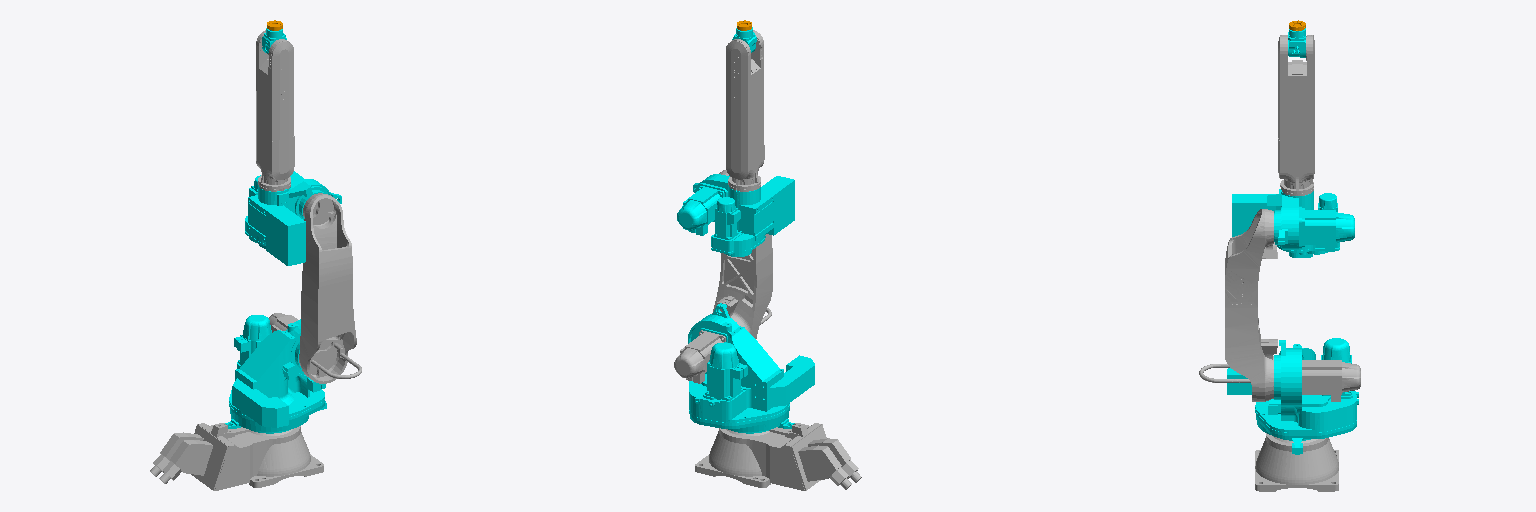
URDF robot description (comau_smart5_six):
<?xml version="1.0"?>
<robot name="comau_smart5_six" xmlns:xacro="http://ros.org/wiki/xacro">


  <!-- **************** WORLD LINK ********************** -->
  <link name="world" />

  <!-- **************** BASE COMAU ********************** -->
  <link name="base_comau">
  	<visual>
	  <origin xyz="0 0 0" rpy="0 0 0" />
  	  <geometry>
  		<mesh
			filename="package://smart5six_description/meshes/dae/base.dae"
			scale="0.001 0.001 0.001"
  			/>
  	  </geometry>
	  
  	  <material name="dark_grey">
  		<color rgba="0.76 0.76 0.76 1" />
  	  </material>
  	</visual>

	<inertial>
	  <origin xyz="-0.10060 0.00262 0.08516" rpy="0 0 0" />
	  <mass value="125.01405"/>
	  <inertia
		  ixx="0.81984" ixy="-0.08140" ixz="-0.08589"
		  iyy="2.56616" iyz="0.00694"
		  izz="2.84953"/>
	</inertial>

	<collision>
	  <origin xyz="0 0 0" rpy="0 0 0" />
	  <geometry>
  		<mesh
			filename="package://smart5six_description/meshes/dae/base.dae"
			scale="0.001 0.001 0.001"
  			/>
	  </geometry>
	</collision>
  </link>
  
  <!-- **************** AXIS 1 ********************** -->
  <link name="axes_1">
	<visual>
	  <geometry>
		<mesh
 			filename="package://smart5six_description/meshes/dae/axes_1.dae"
			scale="0.001 0.001 0.001"
			/>
	  </geometry>
	  
	  <material name="cyan">
		<color rgba="0 1 1 1"/>
	  </material>
	</visual>

	<inertial>
	  <origin xyz="0.03242 0.01778 0.12409" rpy="0 0 0" />
	<mass value="61.340186"/>
	  <inertia
		  ixx="7.439629" ixy="1.308878" ixz="-0.207593"
		  iyy="1.34393" iyz="0.801292"
		  izz="7.58969" />
	</inertial>

	<collision>
	  <origin xyz="0 0 0" rpy="0 0 0" />
	  <geometry>
  		<mesh
			filename="package://smart5six_description/meshes/dae/axes_1.dae"
			scale="0.001 0.001 0.001"
  			/>
	  </geometry>
	</collision>
  </link>

  <!-- **************** AXIS 2 ********************** -->
  <link name="axes_2">
	<visual>
	  
	  <geometry>
		<mesh 
			filename="package://smart5six_description/meshes/dae/axes_2.dae"
			scale="0.001 0.001 0.001"
			/>
	  </geometry>
	  
	  <material name="dark_grey" />
	</visual>

	<inertial>
	  <origin xyz="-0.00776 0.01741 0.18315" rpy="0 0 0" />
	  <mass value="27.961877"/>
	  <inertia
		  ixx="0.647025" ixy="0.072866" ixz="0.849004"
		  iyy="2.614907" iyz="-0.047671"
		  izz="2.081713" />
	</inertial>

	<collision>
	  <origin xyz="0 0 0" rpy="0 0 0" />
	  <geometry>
  		<mesh 
			filename="package://smart5six_description/meshes/dae/axes_2.dae"
			scale="0.001 0.001 0.001"
  			/>
	  </geometry>
	</collision>
  </link>

  <!-- **************** AXIS 3 ********************** -->
  <link name="axes_3">
	<visual>
	  <geometry>
		<mesh 
			filename="package://smart5six_description/meshes/dae/axes_3.dae"
			scale="0.001 0.001 0.001"
			/>
	  </geometry>
	  
	  <material name="cyan" />
	</visual>

	<inertial>
	  <origin xyz="-0.02847 -0.02463 0.09430" rpy="0 0 0" />
	  <mass value="20.628123"/>
	  <inertia
		  ixx="0.237192" ixy="-0.008851" ixz="0.063039"
		  iyy="0.287495" iyz="-0.002462"
		  izz="0.37129" />
	</inertial>

	<collision>
	  <origin xyz="0 0 0" rpy="0 0 0" />
	  <geometry>
  		<mesh
			filename="package://smart5six_description/meshes/dae/axes_3.dae"
			scale="0.001 0.001 0.001"
  			/>
	  </geometry>
	</collision>
  </link>

  <!-- **************** AXIS 4 ********************** -->
  <link name="axes_4">
	<visual>	  
	  <geometry>
		<mesh 
			filename="package://smart5six_description/meshes/dae/axes_4.dae"
			scale="0.001 0.001 0.001"
			/>
	  </geometry>
	  
	  <material name="dark_grey" />
	</visual>

	<inertial>
	  <origin xyz="0.26341 -0.00244 -0.00002" rpy="0 0 0" />
	  <mass value="19.701023"/>
	  <inertia
		  ixx="1.53526" ixy="0.000725" ixz="-0.005893"
		  iyy="0.087447" iyz="0.00579"
		  izz="1.561065" />
	</inertial>

	<collision>
	  <origin xyz="0 0 0" rpy="0 0 0" />
	  <geometry>
  		<mesh
			filename="package://smart5six_description/meshes/dae/axes_4.dae"
			scale="0.001 0.001 0.001"
  			/>
	  </geometry>
	</collision>
  </link>

  <!-- **************** AXIS 5 ********************** -->
  <link name="axes_5">
	<visual>	  
	  <geometry>
		<mesh
 			filename="package://smart5six_description/meshes/dae/axes_5.dae"
			scale="0.001 0.001 0.001"
			/>
	  </geometry>
	  
	  <material name="cyan" />
	</visual>

	<inertial>
	  <origin xyz="0.02065 0.00074 -0.00007" rpy="0 0 0" />
	  <mass value="2.020671"/>
	  <inertia
		  ixx="0.003867" ixy="0.000004" ixz="0.000714"
		  iyy="0.003656" iyz="-0.000006"
		  izz="0.003066" />
	</inertial>

	<collision>
	  <origin xyz="0 0 0" rpy="0 0 0" />
	  <geometry>
  		<mesh			
			filename="package://smart5six_description/meshes/dae/axes_5.dae"
			scale="0.001 0.001 0.001"
  			/>
	  </geometry>
	</collision>
  </link>

  <!-- **************** AXIS 6 ********************** -->
  <link name="axes_6">
	<visual>	  
	  <geometry>
		<mesh 
			filename="package://smart5six_description/meshes/dae/axes_6.dae"
			scale="0.001 0.001 0.001"
			/>
	  </geometry>
	  
	  <material name="orange">
		<color rgba="1 0.64 0.0 1"/>
	  </material>
	</visual>

	<inertial>
	  <origin xyz="-0.00746 -0.00003 -0.00067" rpy="0 0 0" />
	  <mass value="0.241159"/>
	  <inertia
		  ixx="0.001911" ixy="0.000000" ixz="-0.000007"
		  iyy="0.001905" iyz="0.000001"
		  izz="0.000118" />
	</inertial>

	<collision>
	  <origin xyz="0 0 0" rpy="0 0 0" />
	  <geometry>
  		<mesh
			filename="package://smart5six_description/meshes/dae/axes_6.dae"
			scale="0.001 0.001 0.001"
  			/>
	  </geometry>
	</collision>
  </link>


  <!-- ********************* JOINTS *********************** -->  

  <joint name="world_joint"  type="fixed">
  	<origin xyz="0 0 0" rpy="0 0 0" />
	<parent link="world"/>
	<child link="base_comau"/>
  </joint>

  <joint name="joint_1" type="revolute">
  	<parent link="base_comau" />
  	<child link="axes_1" />
	<origin xyz="0 0 0.20140" rpy="0 0 0"/>
	<axis xyz="0 0 -1" />
	<!-- *********** EFFORT TO MAP CORRECTLY *************** -->
	<limit lower="-2.967" upper="2.967" effort="12" velocity="2.443"/>
  </joint>

  <joint name="joint_2" type="revolute">
  	<parent link="axes_1" />
  	<child link="axes_2" />
	<origin xyz="0.150 -0.090 0.2486" rpy="0 0 0"/>
	<axis xyz="0 1 0"/>
	<!-- *********** EFFORT TO MAP CORRECTLY *************** -->
	<limit lower="-1.48" upper="2.71" effort="12" velocity="2.792"/>
  </joint>

  <joint name="joint_3" type="revolute">
  	<parent link="axes_2" />
  	<child link="axes_3" />
	<origin xyz="0 0.107 0.590" rpy="0 -1.57 0"/>
	<axis xyz="0 -1 0"/>
	<!-- *********** EFFORT TO MAP CORRECTLY *************** -->
	<limit lower="-2.967" upper="0.00" effort="12" velocity="2.967"/>
  </joint>

  <joint name="joint_4" type="revolute">
  	<parent link="axes_3" />
  	<child link="axes_4" />
	<origin xyz="0.100 -0.017 0.130" rpy="0 0 0"/>
	<axis xyz="-1 0 0"/>
	<!-- *********** EFFORT TO MAP CORRECTLY *************** -->
	<limit lower="-3.67" upper="3.67" effort="12" velocity="7.854"/>
  </joint>

  <joint name="joint_5" type="revolute">
  	<parent link="axes_4" />
  	<child link="axes_5" />
	<origin xyz="0.54707 0.0 0.0" rpy="0 0 0"/>
	<axis xyz="0 1 0"/>
	<!-- *********** EFFORT TO MAP CORRECTLY *************** -->
	<limit lower="-2.27" upper="2.27" effort="12" velocity="6.545"/>
  </joint>

  <joint name="joint_6" type="revolute">
  	<parent link="axes_5" />
  	<child link="axes_6" />
	<origin xyz="0.095 0.0 0.0" rpy="0 0 0"/>
	<axis xyz="-1 0 0"/>
	<!-- *********** EFFORT TO MAP CORRECTLY *************** -->
	<limit lower="-47.12" upper="47.12" effort="12" velocity="9.6"/>
  </joint>

<!-- ***GAZEBO*** -->

<gazebo>
<plugin name="smart5six_gazebo_plugin" filename="libsmart5six_gazebo_plugin.so">
<ns>comau</ns>
<robotSimType>comau/Smart-5_Six</robotSimType>
</plugin>
</gazebo>
<gazebo reference="base_link">
<material>Gazebo/FlatBlack</material>
</gazebo>


</robot>

--- What the picture shows (computed from the rendered views, not written in the file) ---
3 views of the same robot in one strip: view 1: azimuth 30°, elevation 25°; view 2: azimuth 150°, elevation 25°; view 3: azimuth 270°, elevation 25° (orthographic).
Model comau_smart5_six with 8 links and 7 joints (6 revolute, 1 fixed), rooted at world, posed all joints at 0.
Links seen in each view (by area): view 1: axes_2, axes_1, base_comau, axes_4, axes_3; view 2: axes_1, base_comau, axes_3, axes_4, axes_2; view 3: axes_2, axes_1, axes_3, axes_4, base_comau.
Link boxes in pixels (x1,y1,x2,y2): axes_2: (269,193,361,383); axes_1: (225,315,326,433); base_comau: (150,423,323,490); axes_4: (256,30,294,191); axes_3: (245,171,341,265); axes_1: (688,303,814,433); base_comau: (695,423,861,490); axes_3: (677,174,794,256); axes_4: (726,30,764,191); axes_2: (674,170,772,383); axes_2: (1199,209,1360,401); axes_1: (1227,338,1358,454); axes_3: (1232,189,1354,257); axes_4: (1278,35,1314,195); base_comau: (1255,433,1338,491).
Bounding box of the posed robot: 0.7365 × 0.5778 × 1.78 m (x, y, z).
Meshes: 7 distinct files referenced, 7 mesh visuals loaded (7 Collada DAE).